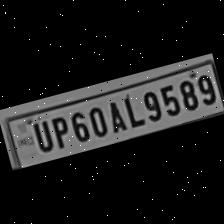0: (82, 101, 110, 140)
5: (155, 80, 183, 120)
6: (64, 106, 92, 146)
8: (174, 74, 200, 114)
9: (136, 86, 164, 124), (191, 70, 218, 109)
A: (101, 96, 129, 136)
L: (118, 92, 144, 130)
P: (44, 112, 72, 151)
U: (27, 117, 55, 155)
